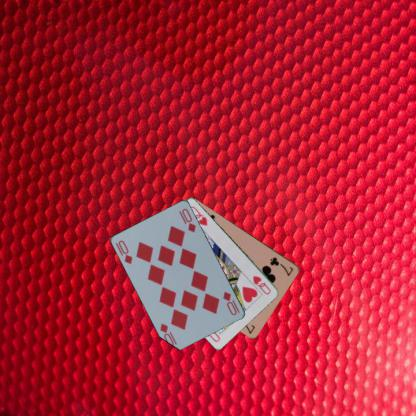10d: (221, 289, 241, 317), (116, 238, 134, 265)
7c: (268, 254, 295, 277)
Qh: (250, 273, 272, 296)
